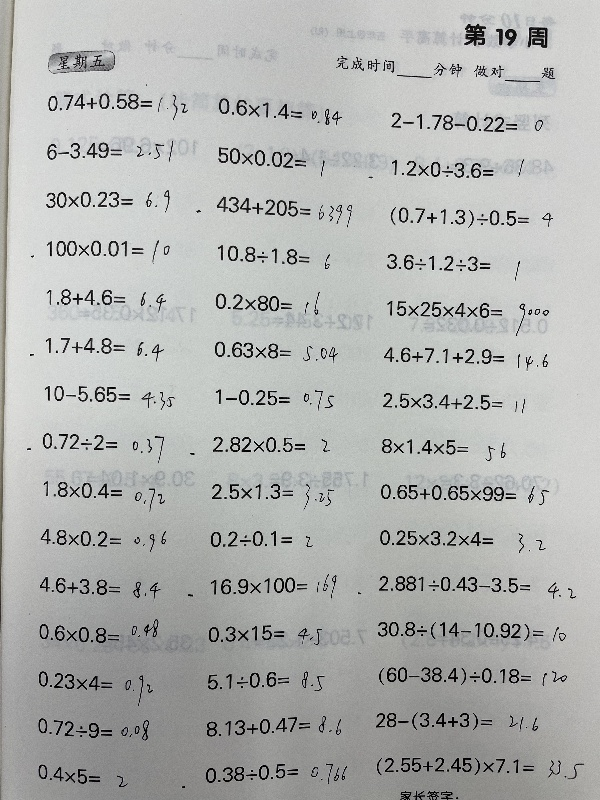equation: (374, 571, 580, 605), (382, 296, 554, 336), (372, 753, 586, 785), (373, 615, 569, 649), (375, 659, 571, 693), (43, 76, 191, 119), (374, 525, 548, 558), (370, 707, 543, 738), (375, 477, 551, 505), (38, 427, 167, 464), (386, 109, 544, 139), (33, 668, 155, 706), (379, 342, 551, 368), (213, 144, 330, 182), (385, 204, 555, 230), (207, 478, 336, 512), (382, 250, 523, 281), (211, 195, 355, 225), (41, 137, 178, 168), (201, 759, 350, 787), (206, 570, 340, 601), (201, 710, 344, 739), (376, 434, 507, 465), (386, 156, 531, 184), (42, 186, 173, 216), (44, 332, 167, 363), (34, 616, 161, 646), (42, 284, 168, 314), (38, 478, 168, 507), (35, 525, 169, 553), (378, 388, 528, 413), (39, 381, 176, 408), (213, 241, 335, 271), (42, 236, 173, 263), (32, 714, 152, 743), (211, 287, 323, 318), (203, 619, 324, 647), (202, 666, 327, 693), (211, 385, 336, 412), (213, 98, 345, 123), (209, 338, 340, 363), (209, 432, 330, 459), (34, 574, 163, 598), (205, 525, 315, 550), (34, 761, 125, 791)
